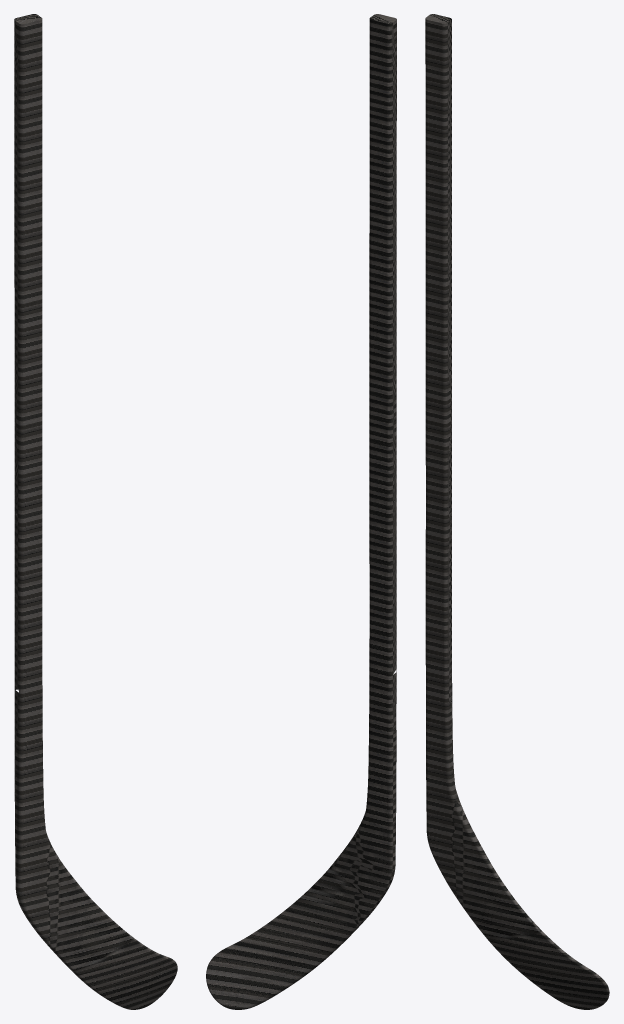
File: P90M-LIE4_0-ST.glb
The picture shows the model from 3 angles, left to right: view 1: azimuth 30°, elevation 25°; view 2: azimuth 150°, elevation 25°; view 3: azimuth 330°, elevation 25°; orthographic projection. The views are drawn at different scales.
Parts seen in each view (by area): view 1: geometry_0; view 2: geometry_0; view 3: geometry_0.
Boxes of the visible parts, <box> form: geometry_0: <box>14,14,177,1009</box>; geometry_0: <box>206,14,396,1009</box>; geometry_0: <box>425,14,609,1009</box>.
Bounding box in the file's own units: 227 × 1274 × 56.47.
1 material, 1 textured.
